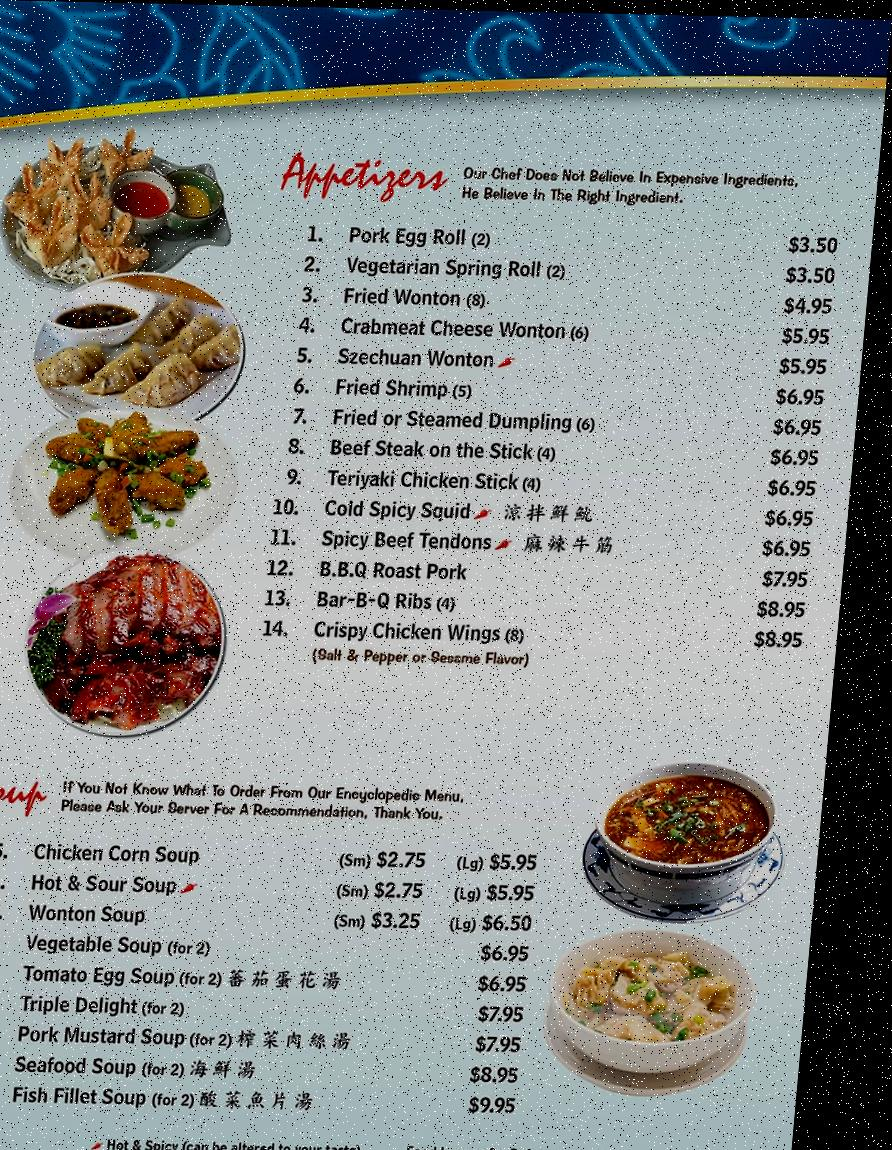Menu-Items: (264, 615, 821, 672), (0, 834, 561, 877), (301, 212, 854, 255), (0, 923, 551, 966), (278, 489, 828, 531), (0, 1048, 549, 1089), (0, 1082, 545, 1123), (269, 581, 823, 621), (0, 867, 560, 905), (299, 250, 852, 288), (273, 550, 824, 588), (300, 339, 844, 377), (0, 896, 556, 933), (0, 989, 555, 1026), (274, 521, 827, 558), (298, 371, 836, 409), (0, 960, 550, 997), (292, 461, 829, 498), (299, 312, 847, 346), (0, 1018, 546, 1052), (299, 282, 848, 315), (292, 432, 834, 465), (295, 403, 835, 436)
